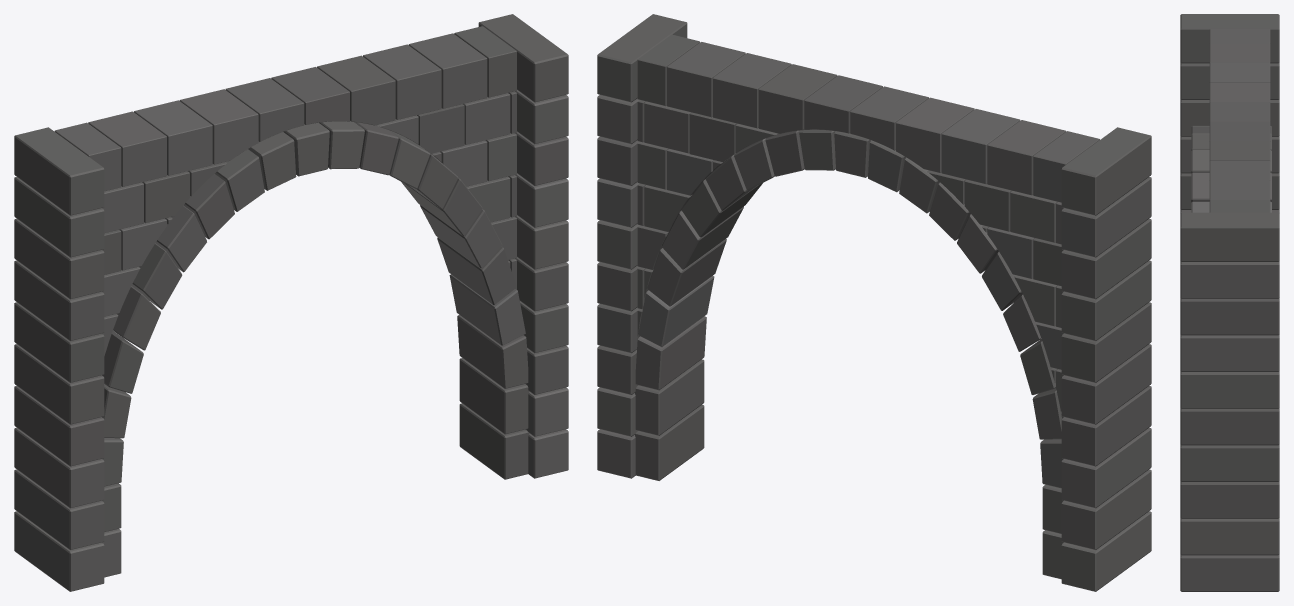
The model's file is ExitArch_Stone.fbx.
3 views of the same model, side by side, from view 1: azimuth 30°, elevation 25°; view 2: azimuth 150°, elevation 25°; view 3: azimuth 270°, elevation 25° (orthographic). The views are drawn at different scales.
Parts seen in each view (by area): view 1: ExitArch_Stone; view 2: ExitArch_Stone; view 3: ExitArch_Stone.
Boxes of the visible parts, x1=… form: ExitArch_Stone: x1=14, y1=14, x2=568, y2=591; ExitArch_Stone: x1=597, y1=14, x2=1151, y2=591; ExitArch_Stone: x1=1180, y1=14, x2=1279, y2=591.
Size of the model in its own units: 300 by 239 by 59.
